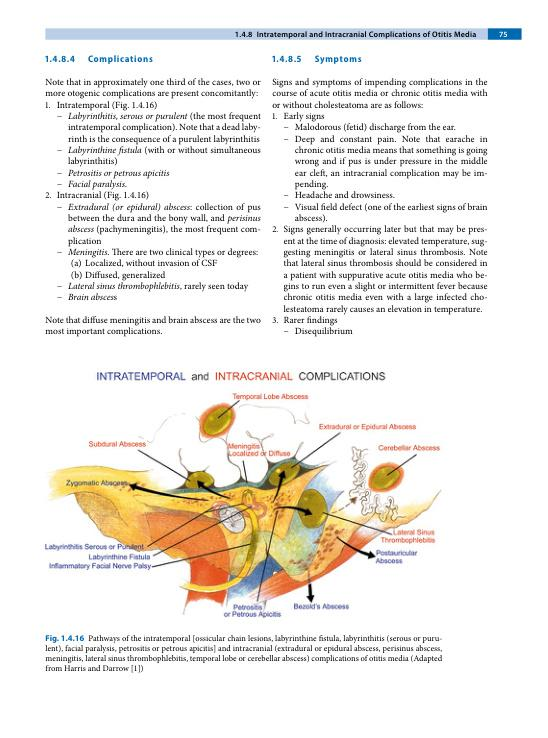caption: (44, 632, 444, 675)
header: (235, 29, 478, 39)
image: (35, 357, 455, 628)
list: (271, 111, 490, 338), (43, 101, 263, 303)
section-heading: (87, 53, 155, 65), (314, 53, 362, 66)
text: (271, 76, 489, 110), (44, 76, 263, 99), (44, 315, 262, 338)
